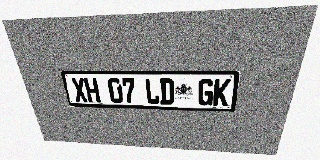0: (107, 78, 123, 103)
7: (121, 78, 137, 104)
D: (159, 78, 174, 105)
G: (197, 79, 214, 106)
H: (83, 78, 101, 103)
K: (212, 79, 231, 106)
L: (145, 78, 160, 104)
X: (70, 78, 88, 102)
